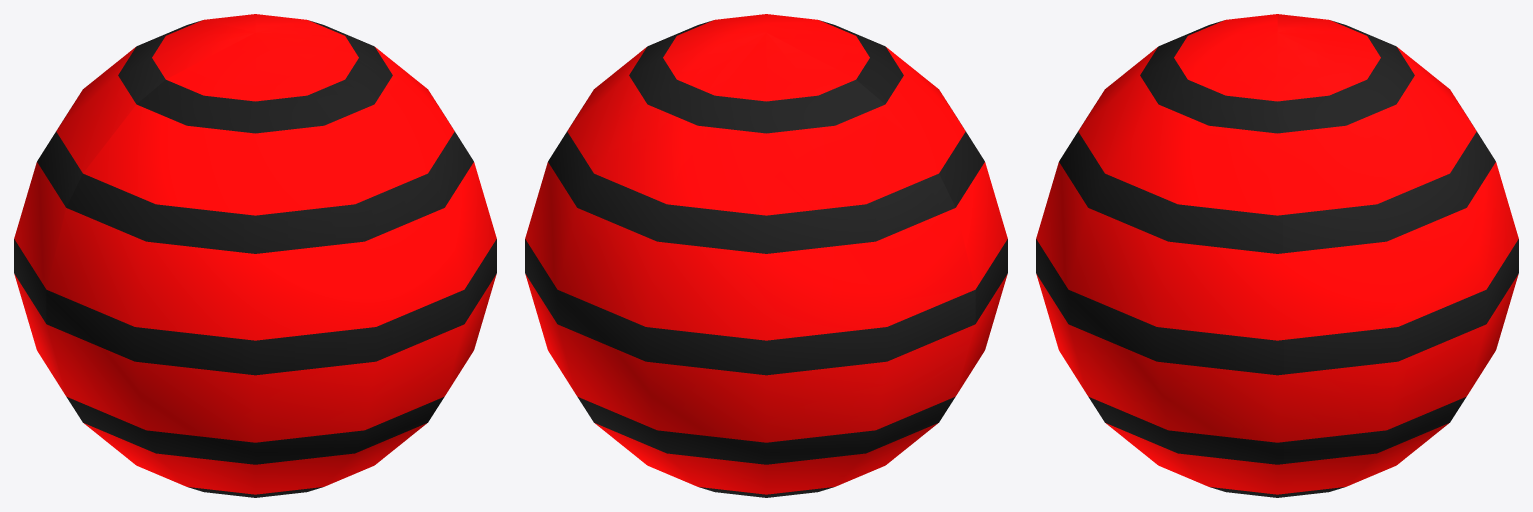
The model's file is MedicineBall.glb.
3 views of the same model, side by side, from view 1: azimuth 30°, elevation 25°; view 2: azimuth 150°, elevation 25°; view 3: azimuth 270°, elevation 25° (orthographic).
Parts seen in each view (by area): view 1: MedicineBall; view 2: MedicineBall; view 3: MedicineBall.
Part boxes in pixels (x1,y1,x2,y2): MedicineBall: [14, 14, 496, 497]; MedicineBall: [525, 14, 1007, 497]; MedicineBall: [1036, 14, 1518, 497].
Bounding box in the file's own units: 0.395 × 0.4034 × 0.395.
Materials: 1 (1 with a texture image).
